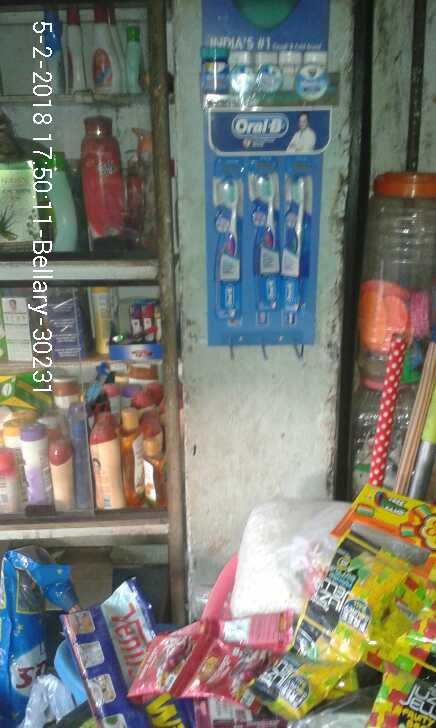pharmacy: (212, 164, 315, 314), (196, 44, 328, 104)
